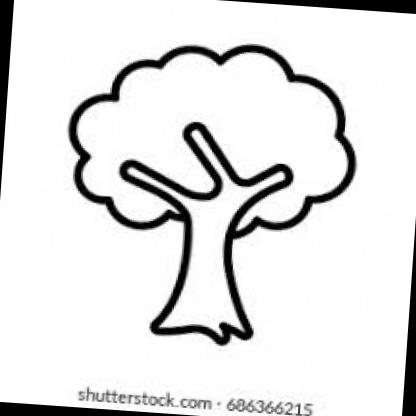branch_cut: (116, 120, 296, 214)
crown_cloud: (60, 34, 364, 244)
root_only: (148, 305, 256, 348)
trunk_straight: (168, 235, 248, 312)
